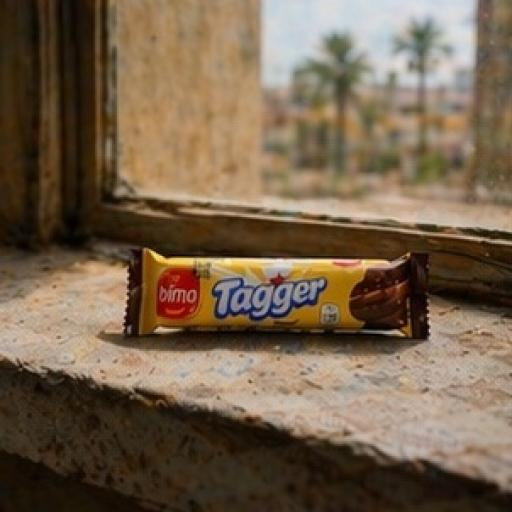tagger: (78, 201, 493, 422)
